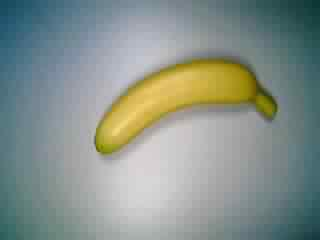banana: (92, 56, 279, 157)
